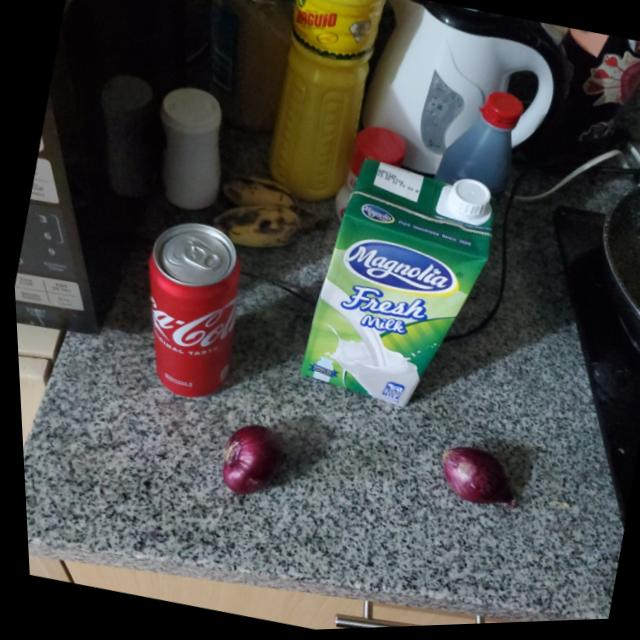coke: (114, 210, 261, 409)
milk: (276, 147, 510, 429)
onion: (425, 439, 519, 520), (206, 413, 284, 506)
